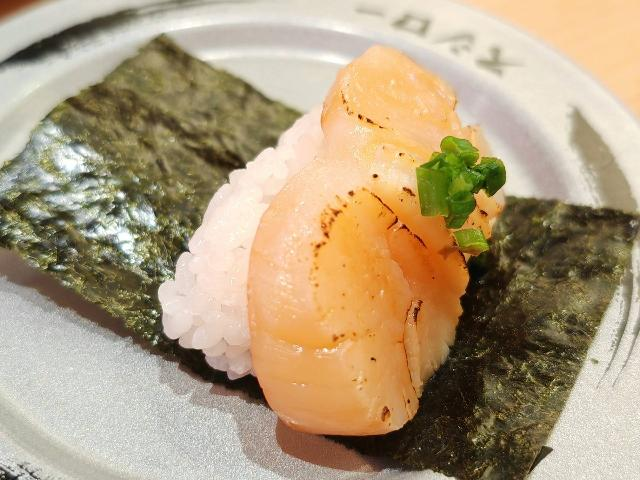janwhite: (0, 230, 149, 438), (0, 1, 503, 61), (515, 0, 640, 192), (0, 423, 389, 480), (546, 282, 640, 480)
